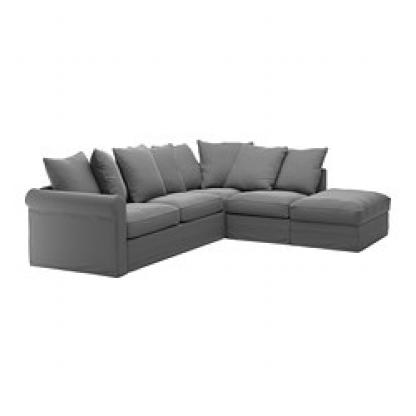Sofa: (17, 138, 391, 280)
